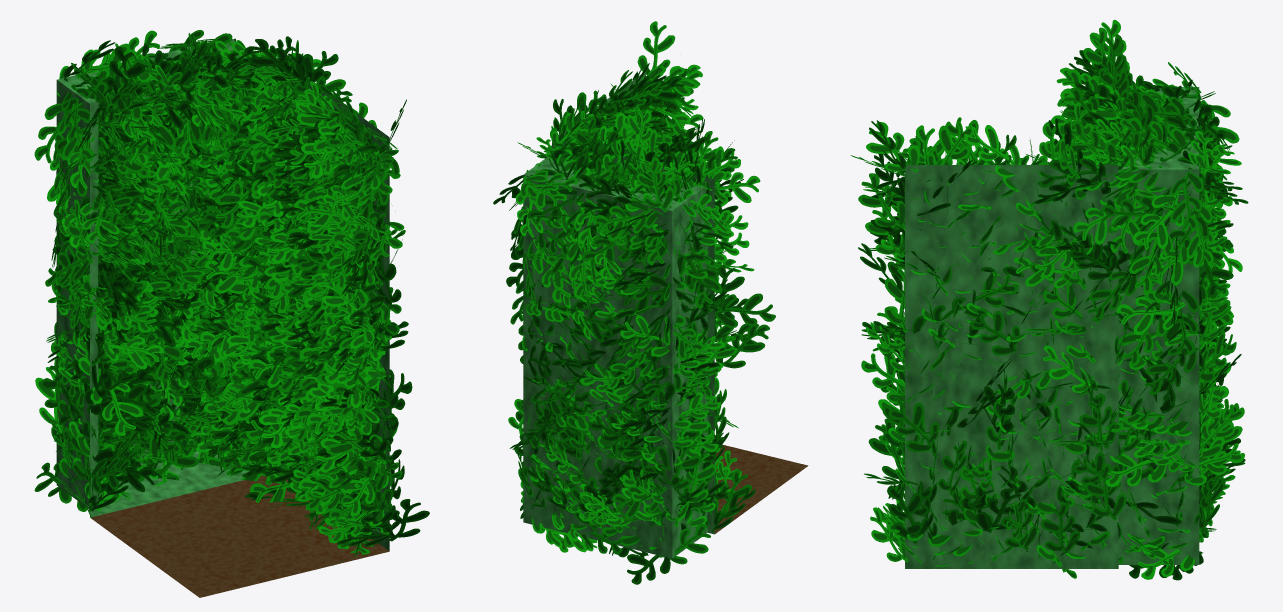
The model's file is LeftTurnV2.fbx.
3 renders of one model, left to right at view 1: azimuth 30°, elevation 25°; view 2: azimuth 150°, elevation 25°; view 3: azimuth 270°, elevation 25°, orthographic. The views are drawn at different scales.
Visible parts, largest first — view 1: LeftTurnV2, LeftTurnV2|Plane|Dupli|1199, LeftTurnV2|Plane|Dupli|1190, LeftTurnV2|Plane|Dupli|135, LeftTurnV2|Plane|Dupli|840, LeftTurnV2|Plane|Dupli|57, LeftTurnV2|Plane|Dupli|1219, LeftTurnV2|Plane|Dupli|119, LeftTurnV2|Plane|Dupli|1075, LeftTurnV2|Plane|Dupli|319, LeftTurnV2|Plane|Dupli|1059, LeftTurnV2|Plane|Dupli|1891 (+22 smaller); view 2: LeftTurnV2, LeftTurnV2|Plane|Dupli|1200, LeftTurnV2|Plane|Dupli|1832, LeftTurnV2|Plane|Dupli|1724, LeftTurnV2|Plane|Dupli|1215, LeftTurnV2|Plane|Dupli|224, LeftTurnV2|Plane|Dupli|1195, LeftTurnV2|Plane|Dupli|1081, LeftTurnV2|Plane|Dupli|1639, LeftTurnV2|Plane|Dupli|1971, LeftTurnV2|Plane|Dupli|1602, LeftTurnV2|Plane|Dupli|1796 (+48 smaller); view 3: LeftTurnV2, LeftTurnV2|Plane|Dupli|532, LeftTurnV2|Plane|Dupli|2, LeftTurnV2|Plane|Dupli|377, LeftTurnV2|Plane|Dupli|94, LeftTurnV2|Plane|Dupli|1993, LeftTurnV2|Plane|Dupli|606, LeftTurnV2|Plane|Dupli|247, LeftTurnV2|Plane|Dupli|379, LeftTurnV2|Plane|Dupli|1156, LeftTurnV2|Plane|Dupli|705, LeftTurnV2|Plane|Dupli|394 (+47 smaller).
Boxes of the visible parts, left/top/right/bottom form: LeftTurnV2: left=56, top=38, right=389, bottom=597; LeftTurnV2|Plane|Dupli|1199: left=90, top=377, right=143, bottom=435; LeftTurnV2|Plane|Dupli|1190: left=95, top=328, right=164, bottom=369; LeftTurnV2|Plane|Dupli|135: left=340, top=460, right=388, bottom=516; LeftTurnV2|Plane|Dupli|840: left=248, top=39, right=306, bottom=81; LeftTurnV2|Plane|Dupli|57: left=323, top=419, right=388, bottom=468; LeftTurnV2|Plane|Dupli|1219: left=106, top=46, right=145, bottom=98; LeftTurnV2|Plane|Dupli|119: left=294, top=193, right=361, bottom=233; LeftTurnV2|Plane|Dupli|1075: left=34, top=103, right=70, bottom=163; LeftTurnV2|Plane|Dupli|319: left=380, top=499, right=429, bottom=541; LeftTurnV2|Plane|Dupli|1059: left=91, top=184, right=133, bottom=226; LeftTurnV2|Plane|Dupli|1891: left=61, top=84, right=90, bottom=141; LeftTurnV2: left=523, top=71, right=808, bottom=558; LeftTurnV2|Plane|Dupli|1200: left=713, top=293, right=775, bottom=328; LeftTurnV2|Plane|Dupli|1832: left=592, top=198, right=650, bottom=241; LeftTurnV2|Plane|Dupli|1724: left=636, top=157, right=674, bottom=212; LeftTurnV2|Plane|Dupli|1215: left=711, top=170, right=760, bottom=202; LeftTurnV2|Plane|Dupli|224: left=637, top=21, right=675, bottom=75; LeftTurnV2|Plane|Dupli|1195: left=715, top=324, right=765, bottom=368; LeftTurnV2|Plane|Dupli|1081: left=636, top=364, right=681, bottom=410; LeftTurnV2|Plane|Dupli|1639: left=663, top=315, right=703, bottom=361; LeftTurnV2|Plane|Dupli|1971: left=520, top=174, right=566, bottom=208; LeftTurnV2|Plane|Dupli|1602: left=659, top=524, right=710, bottom=564; LeftTurnV2|Plane|Dupli|1796: left=619, top=428, right=671, bottom=472; LeftTurnV2: left=905, top=87, right=1199, bottom=568; LeftTurnV2|Plane|Dupli|532: left=1133, top=194, right=1183, bottom=249; LeftTurnV2|Plane|Dupli|2: left=888, top=402, right=939, bottom=452; LeftTurnV2|Plane|Dupli|377: left=1116, top=296, right=1185, bottom=335; LeftTurnV2|Plane|Dupli|94: left=858, top=173, right=905, bottom=228; LeftTurnV2|Plane|Dupli|1993: left=1170, top=170, right=1203, bottom=231; LeftTurnV2|Plane|Dupli|606: left=964, top=125, right=1019, bottom=177; LeftTurnV2|Plane|Dupli|247: left=887, top=485, right=929, bottom=543; LeftTurnV2|Plane|Dupli|379: left=1105, top=453, right=1166, bottom=487; LeftTurnV2|Plane|Dupli|1156: left=1084, top=463, right=1126, bottom=520; LeftTurnV2|Plane|Dupli|705: left=970, top=311, right=1019, bottom=355; LeftTurnV2|Plane|Dupli|394: left=1087, top=271, right=1137, bottom=321.
Bounding box in the file's own units: 196 × 324 × 242.
